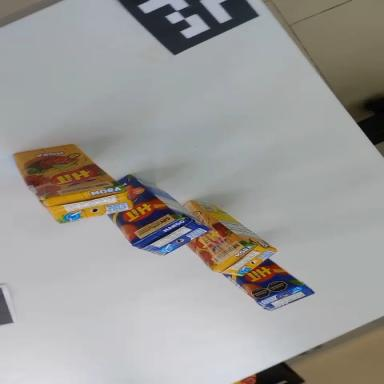HIT-MANGO: (92, 165, 209, 276), (221, 242, 315, 328)
HIT-MORA: (13, 131, 134, 231), (163, 190, 277, 294)
cara_F: (92, 172, 180, 257), (14, 136, 121, 204), (163, 198, 247, 277), (229, 250, 302, 308)
